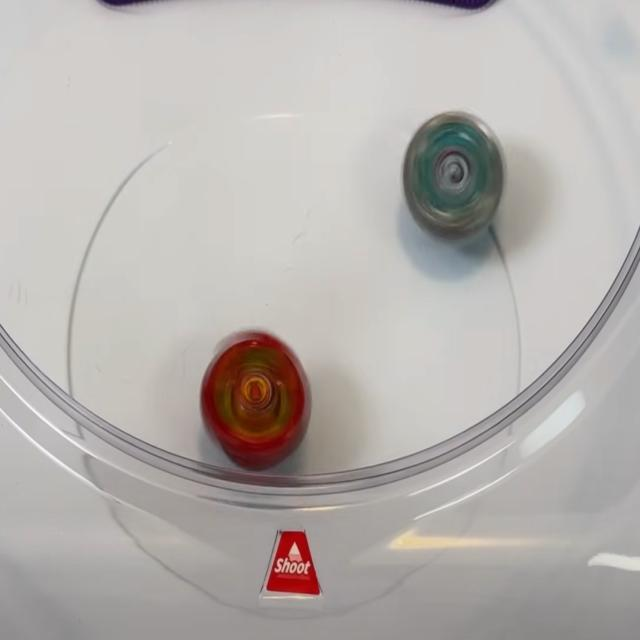Beyblade: (196, 328, 314, 472), (400, 108, 508, 242)
